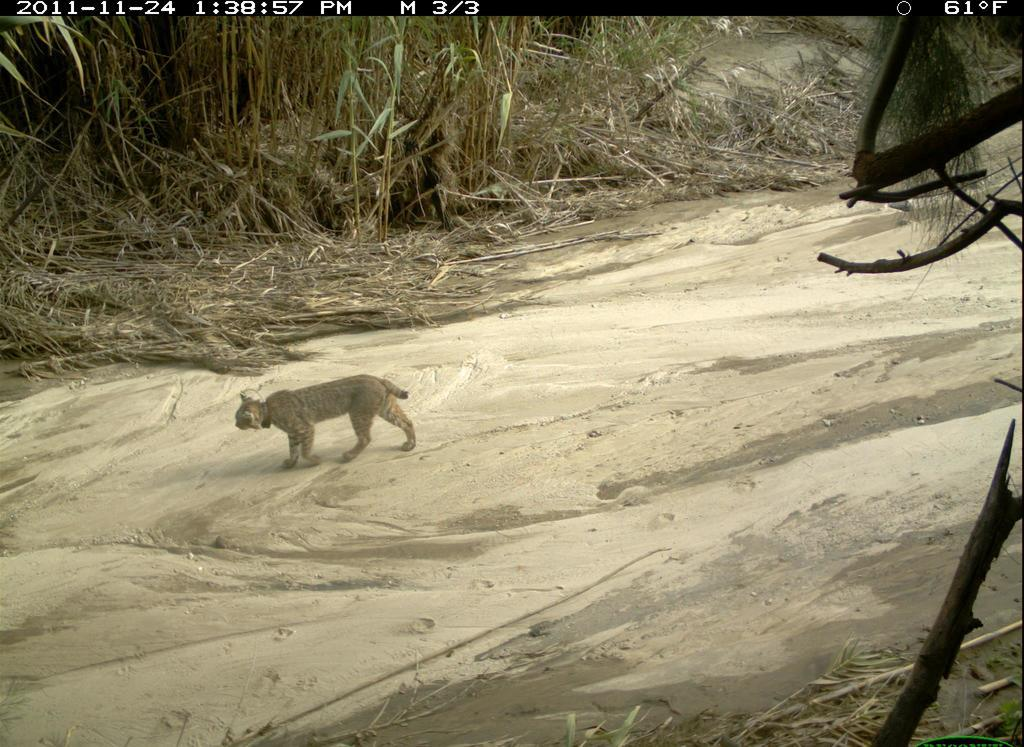bobcat: (232, 374, 427, 468)
